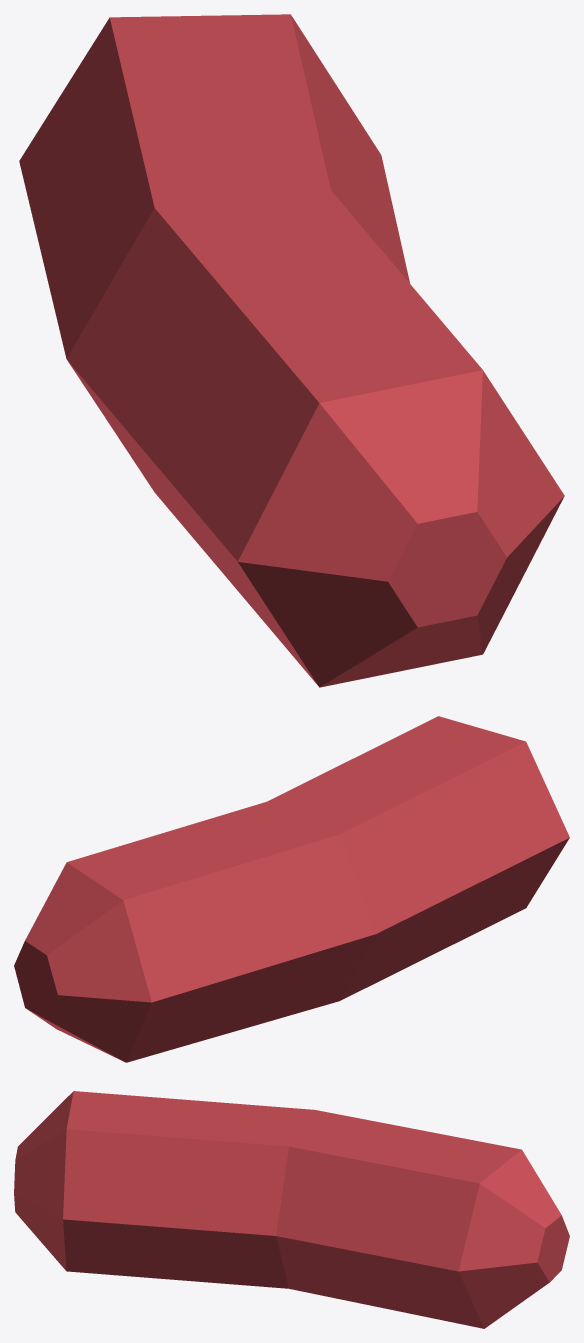
Rendered from sausage.fbx.
3 views of the same model, one above another, from view 1: azimuth 30°, elevation 25°; view 2: azimuth 150°, elevation 25°; view 3: azimuth 270°, elevation 25° (orthographic). The views are drawn at different scales.
Parts seen in each view (by area): view 1: sausage; view 2: sausage; view 3: sausage.
Part boxes in pixels (<box>): sausage: <box>19,14,564,687</box>; sausage: <box>14,716,569,1062</box>; sausage: <box>14,1091,569,1328</box>.
Bounding box in the file's own units: 9.25 × 4.8 × 16.96.
